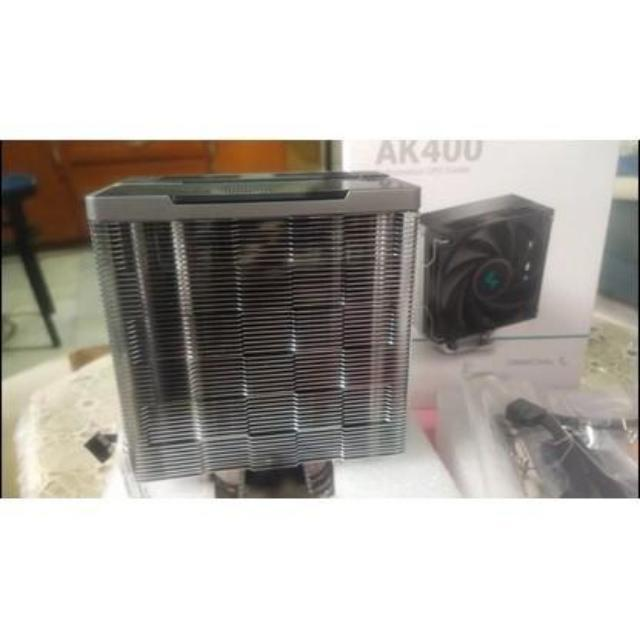CPU_Fan: (86, 172, 423, 504)
